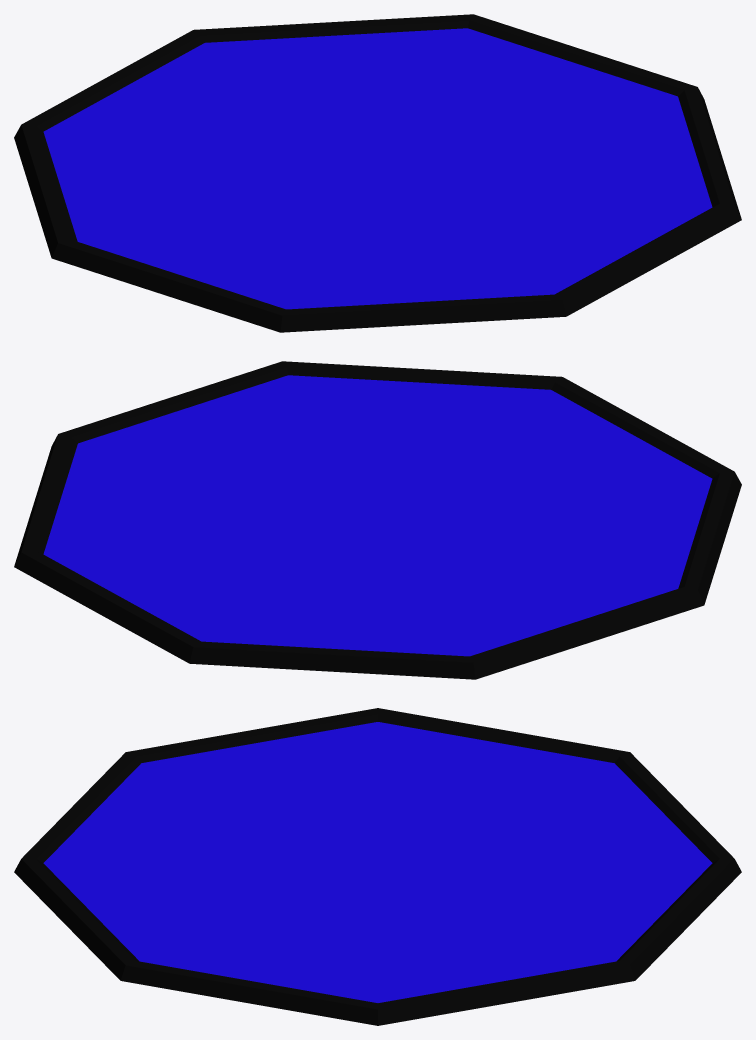
Rendered from octagon.fbx.
3 views of the same model, one above another, from view 1: azimuth 30°, elevation 25°; view 2: azimuth 150°, elevation 25°; view 3: azimuth 270°, elevation 25° (orthographic). The views are drawn at different scales.
Visible parts, largest first — view 1: Sky; view 2: Sky; view 3: Sky.
Part boxes in pixels (x1=…): Sky: x1=14, y1=14, x2=741, y2=332; Sky: x1=14, y1=361, x2=741, y2=679; Sky: x1=14, y1=708, x2=741, y2=1025.
Bounding box in the file's own units: 1483 × 30.08 × 1483.
